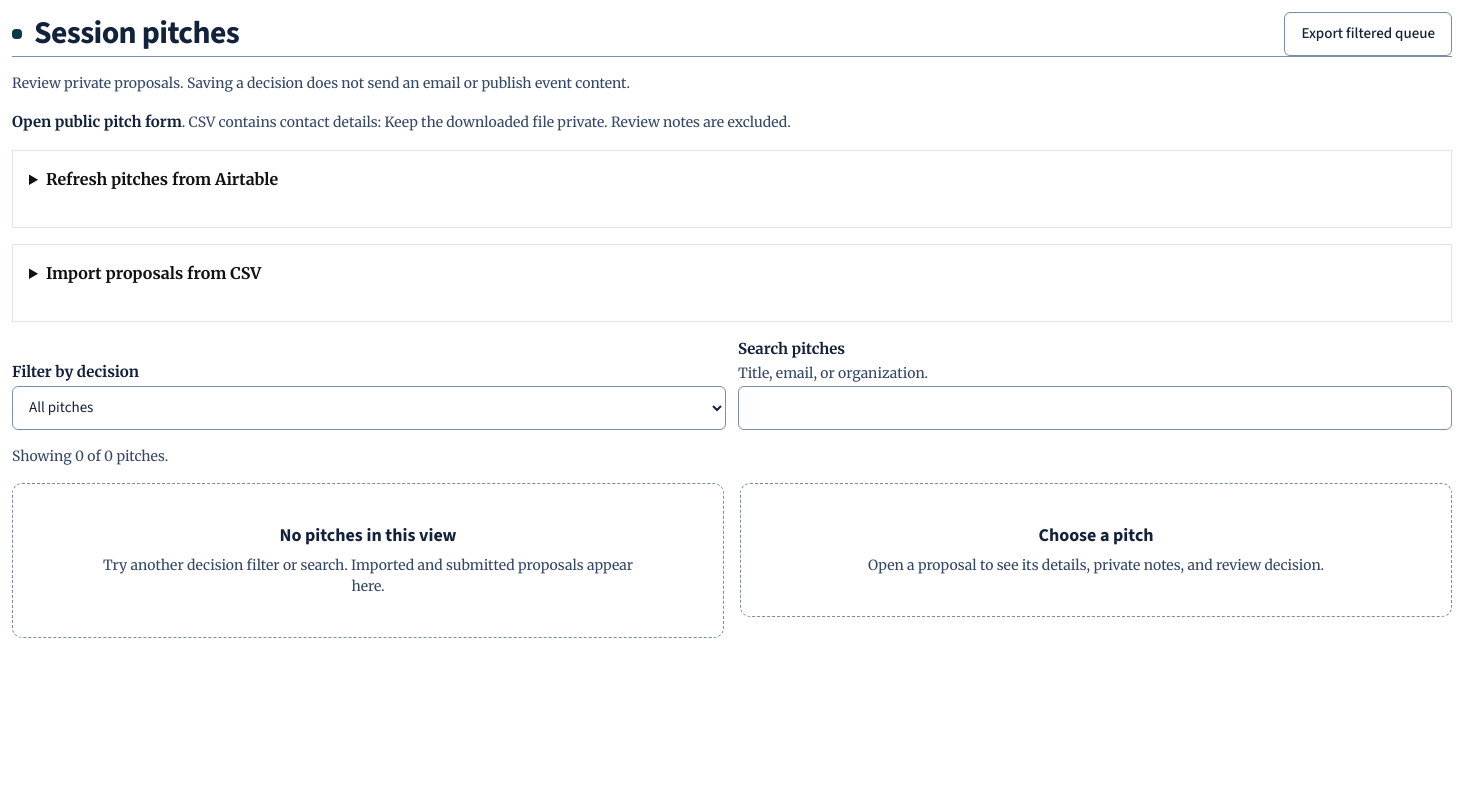
Scenario: Airtable refresh status and action › shows staff the last run, its counts and why records were skipped, without the settings
Click the heading "Refresh pitches from Airtable" at (162, 179), box [46, 169, 278, 189]
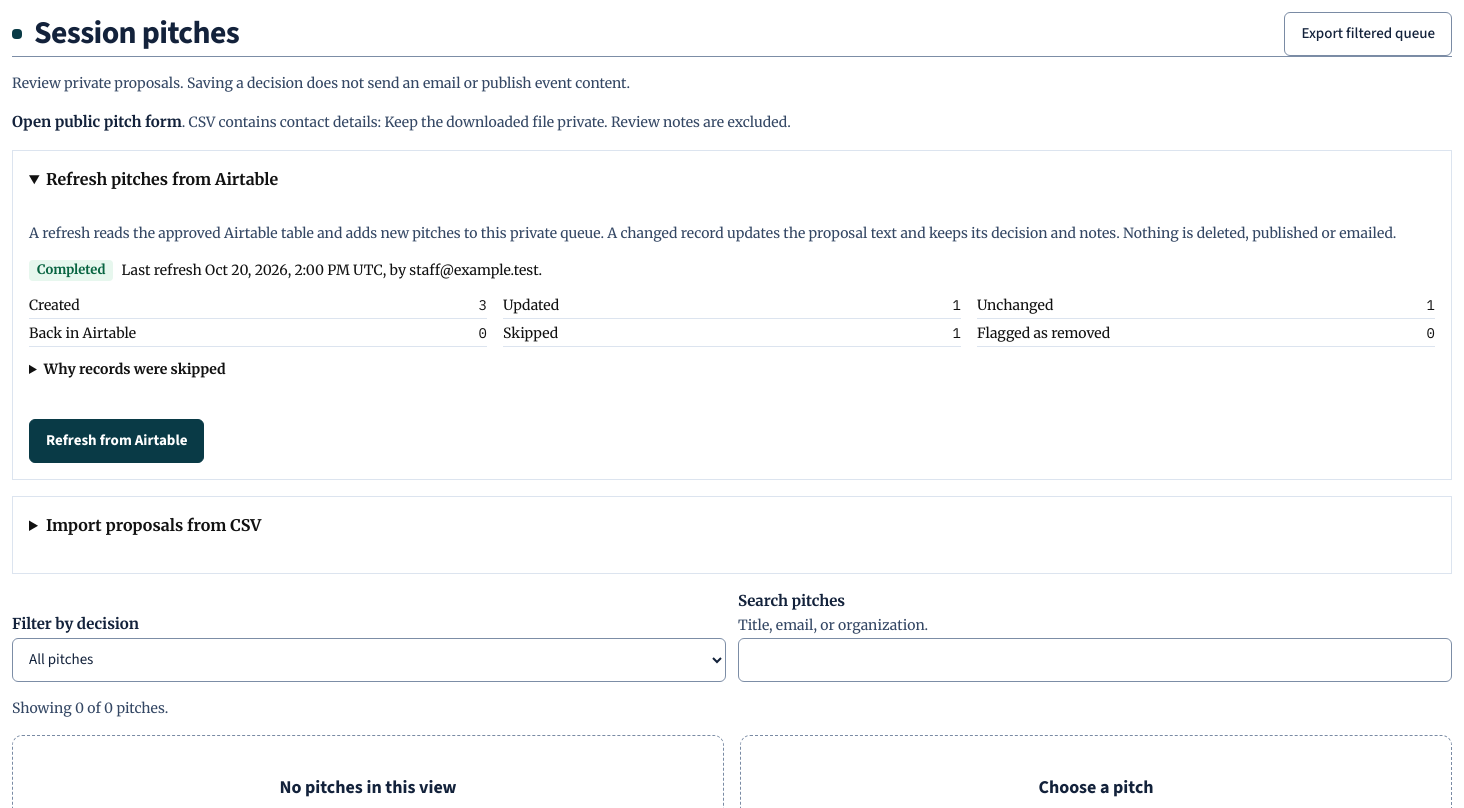
Result: the text "Completed" is shown at [29, 260, 114, 281]
Result: the text "Last refresh Oct 20, 2026, 2:00 PM UTC, by staff@example.test" is shown at [122, 260, 542, 281]
Result: the text "3" is shown at [479, 295, 487, 316]
Click the heading "Why records were skipped" at (135, 369), box [44, 360, 226, 378]
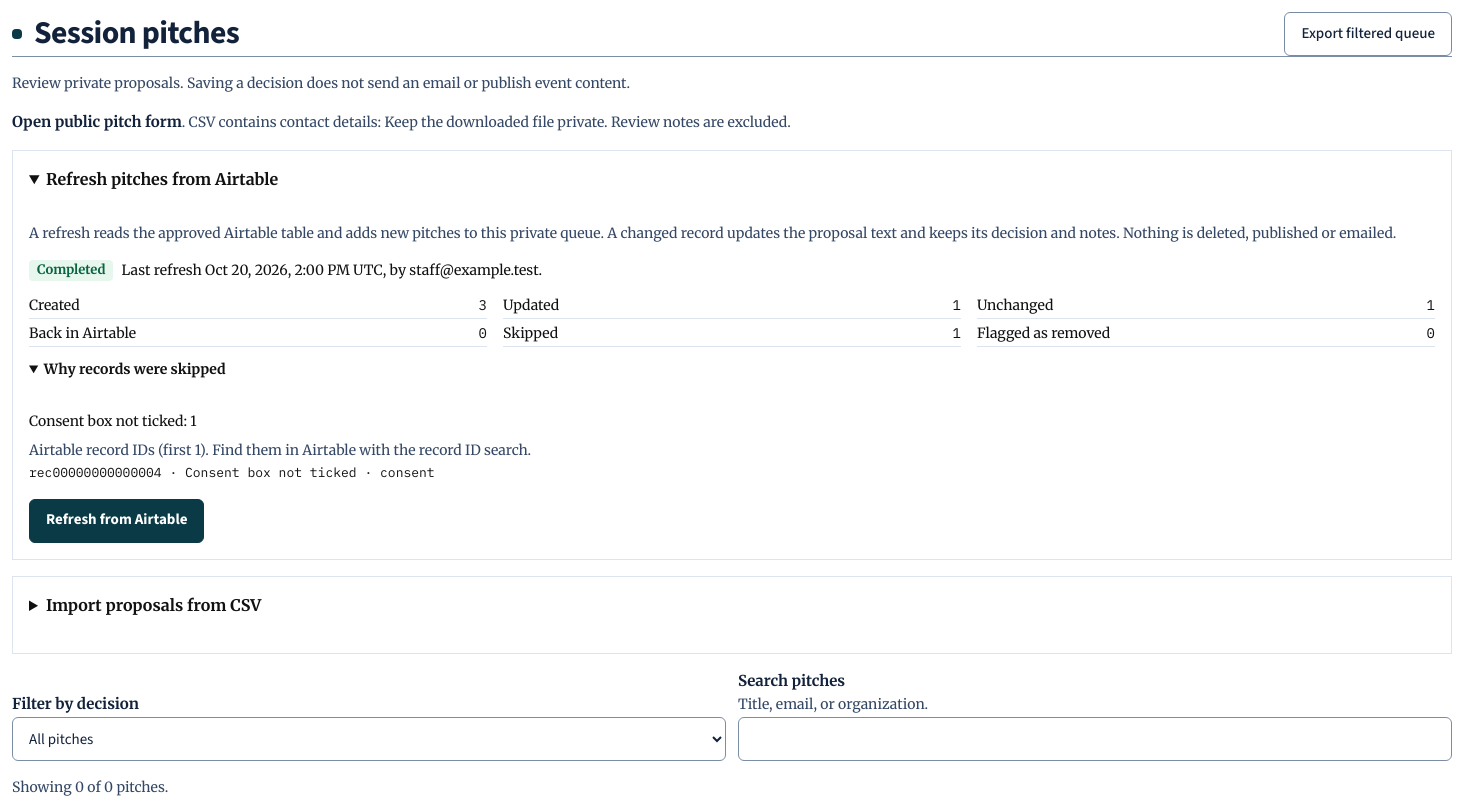
Result: the list item "Consent box not ticked: 1" is shown at [29, 412, 197, 430]
Result: the list item "rec00000000000004 · Consent box not ticked · consent" is shown at [29, 464, 435, 481]
